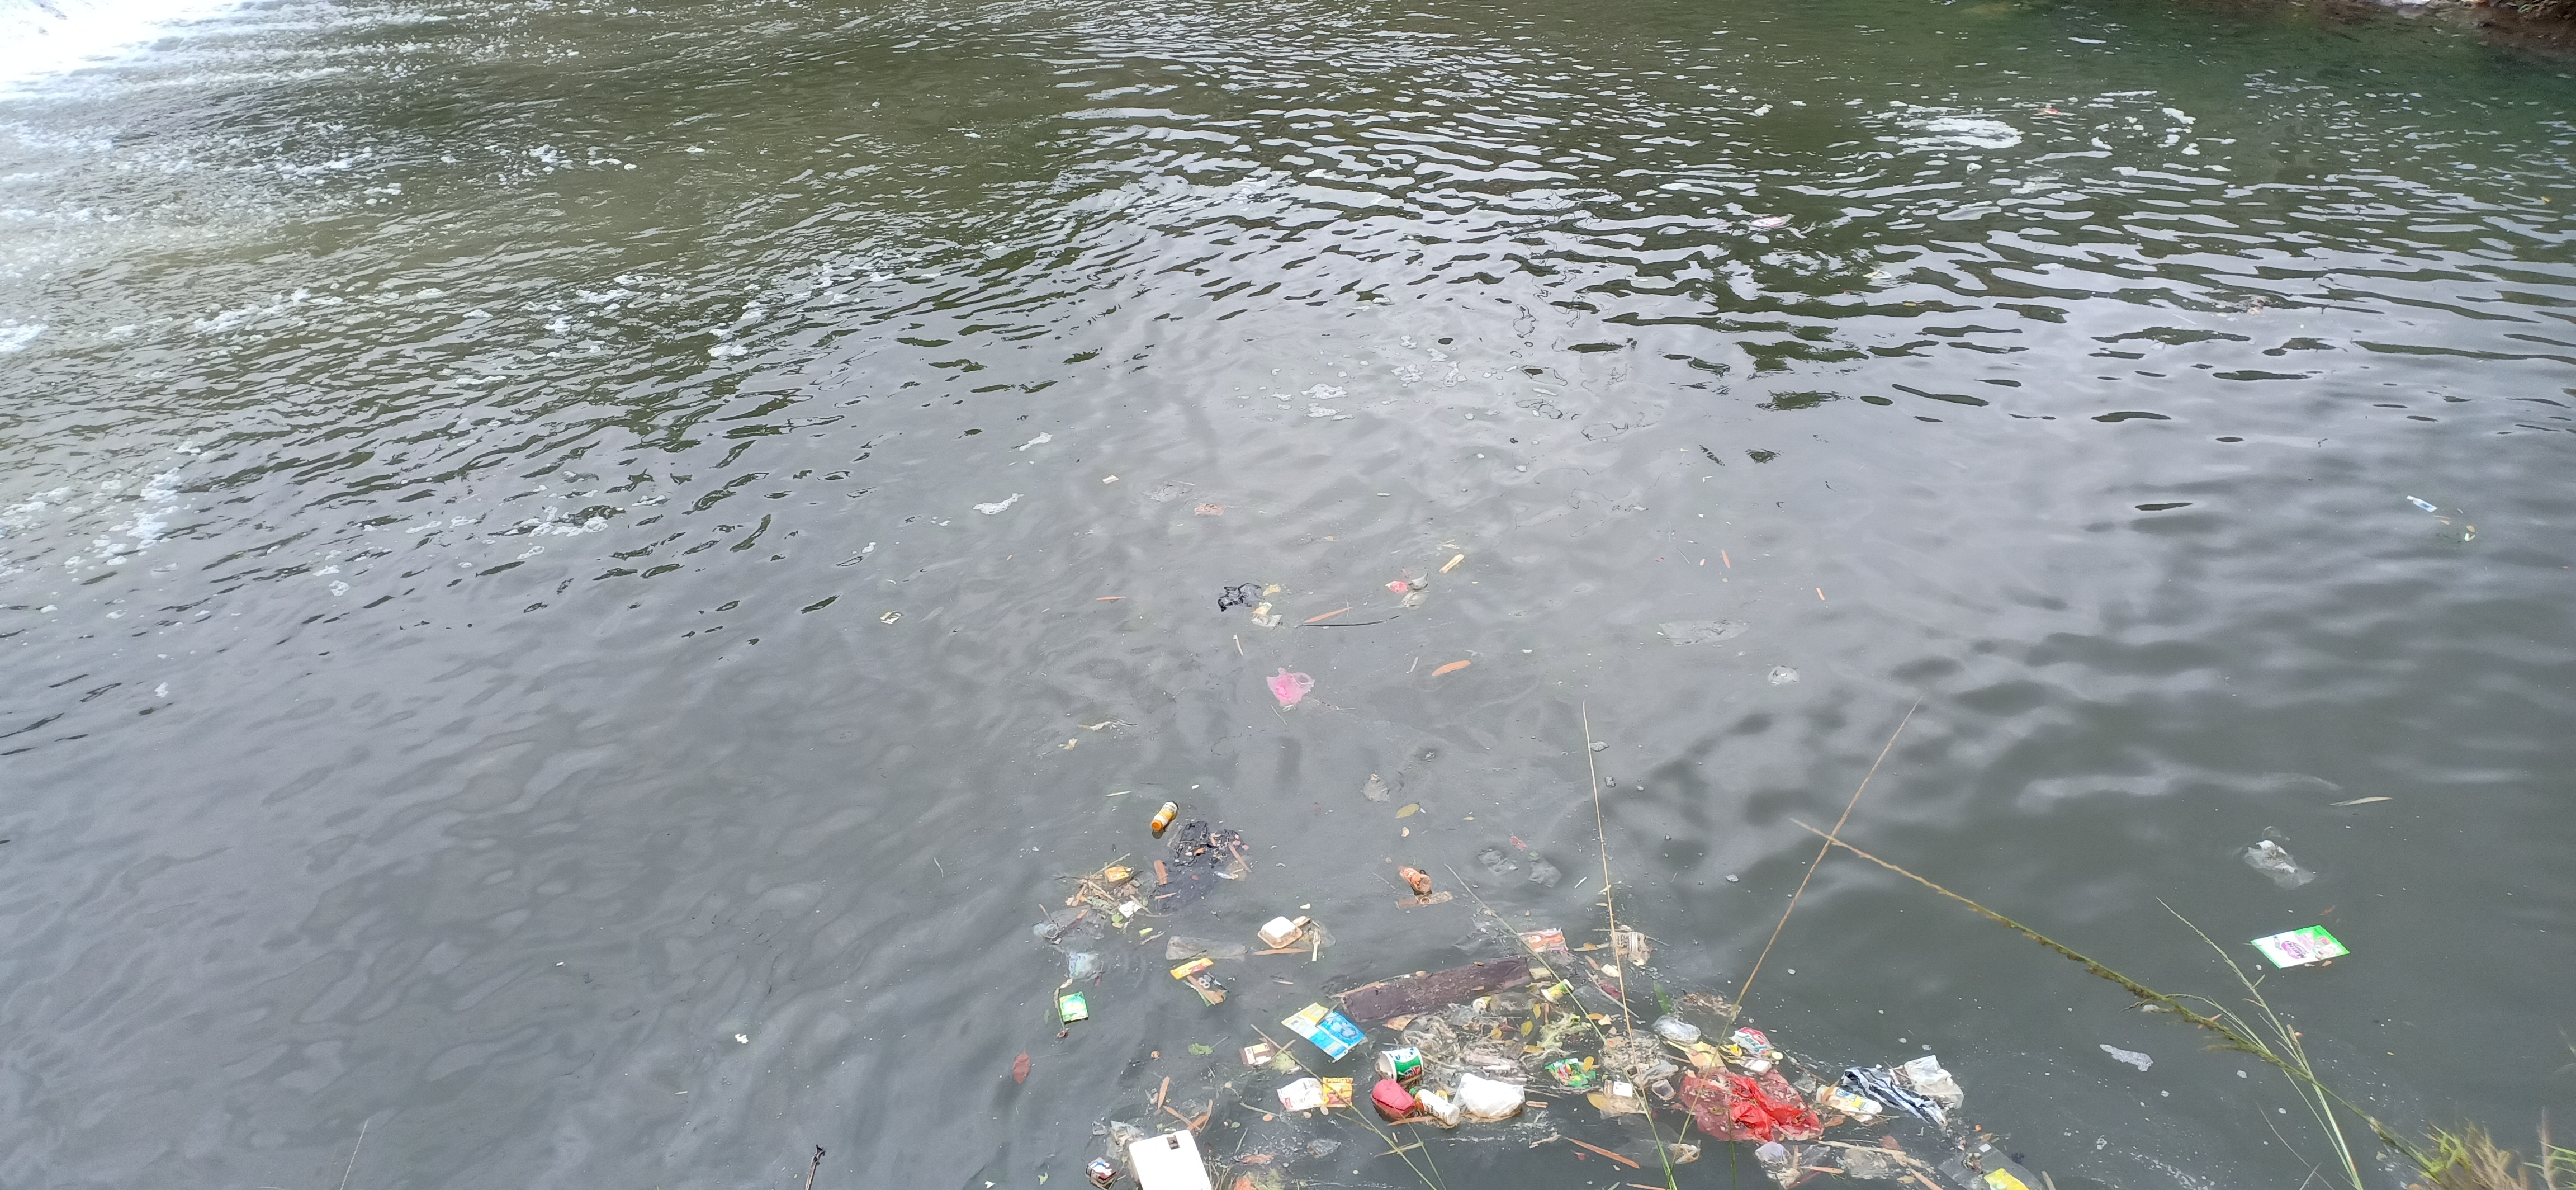Plastic Bottle: (1410, 1086, 1459, 1126), (1396, 865, 1429, 892), (1150, 802, 1178, 832)
